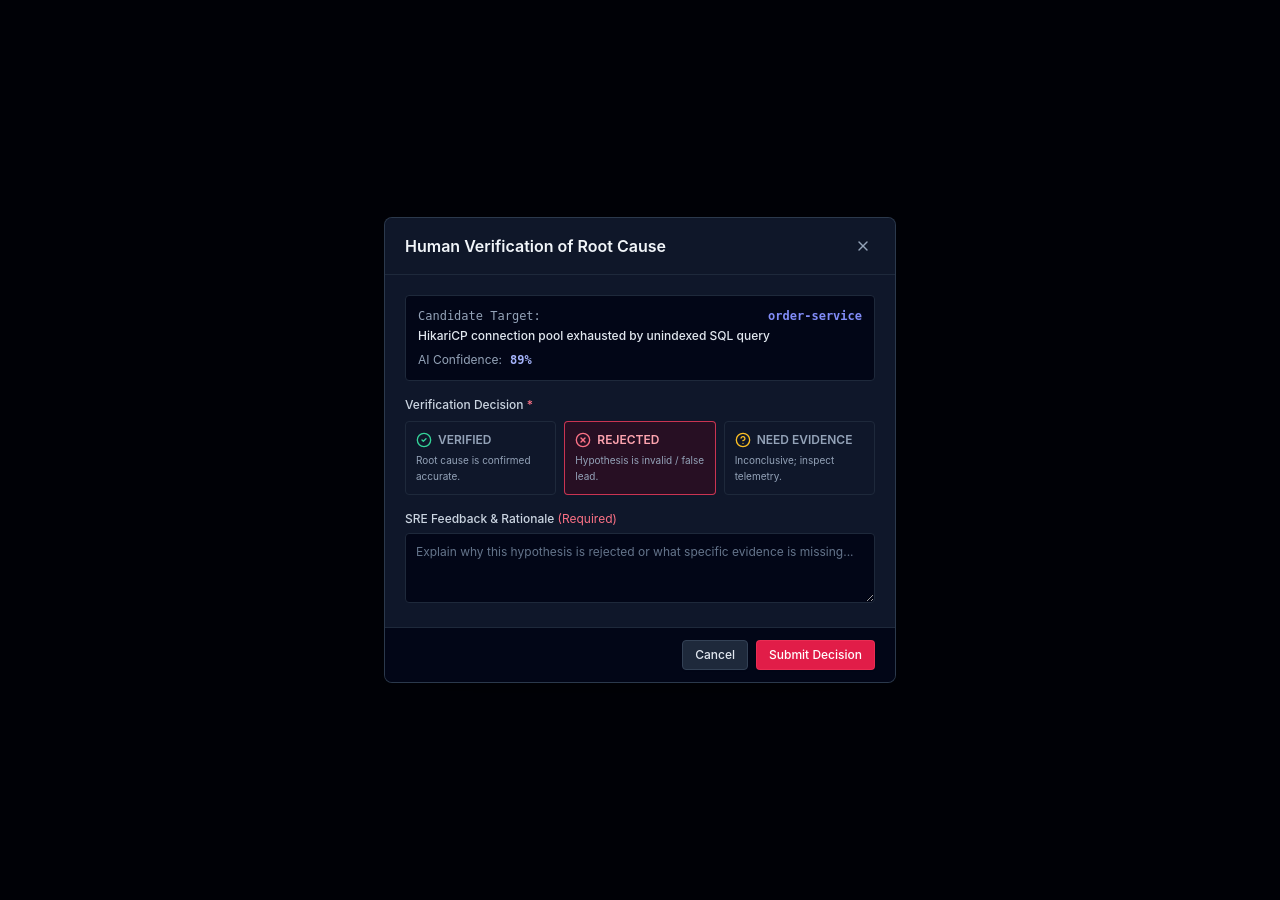
Test: VerificationModal Component › requires rationale when rejecting hypothesis
Click the button "Submit Decision": coordinates (816, 655) [756,640,875,670]
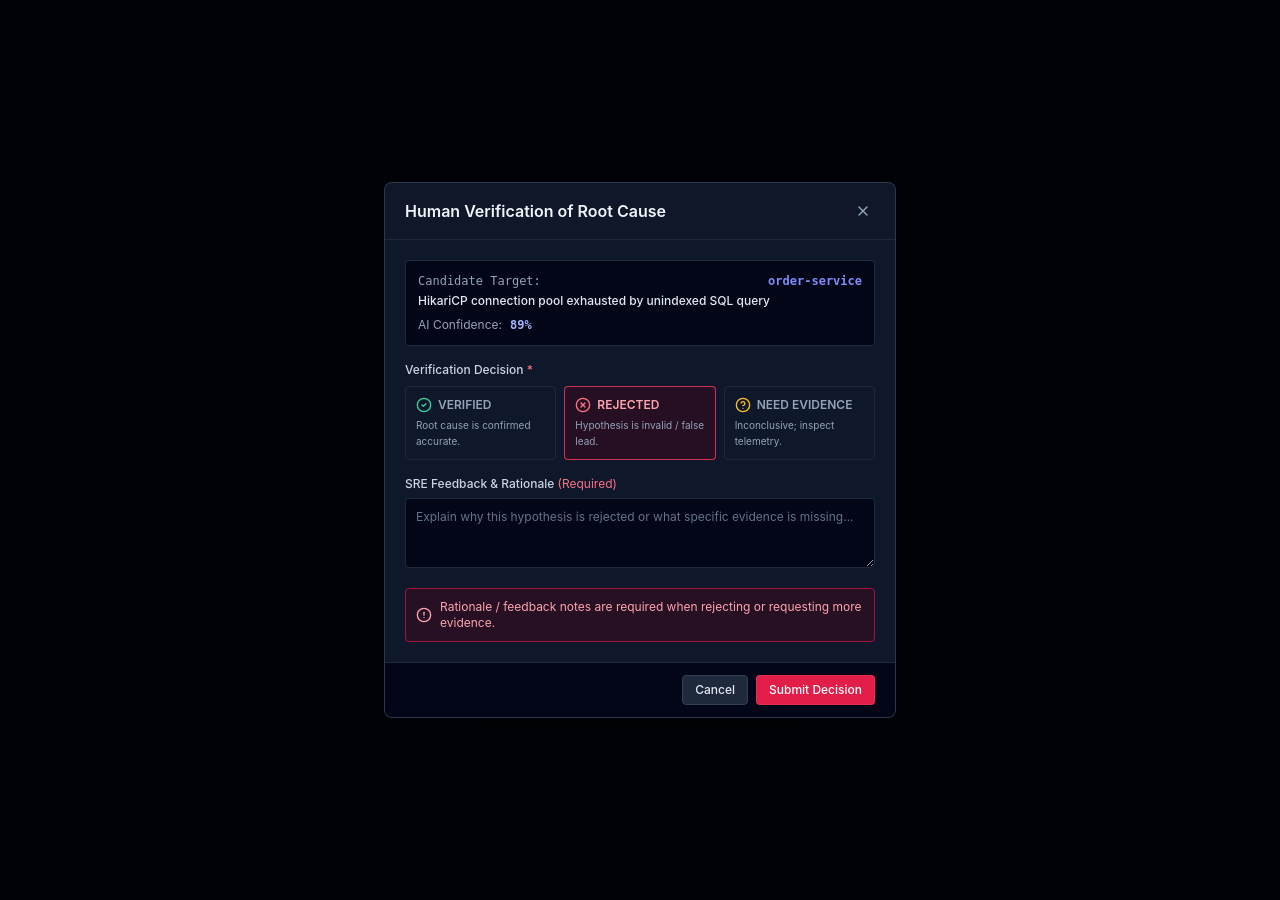
Now the text "Rationale / feedback notes are required" is shown, box [440,599,862,630]
